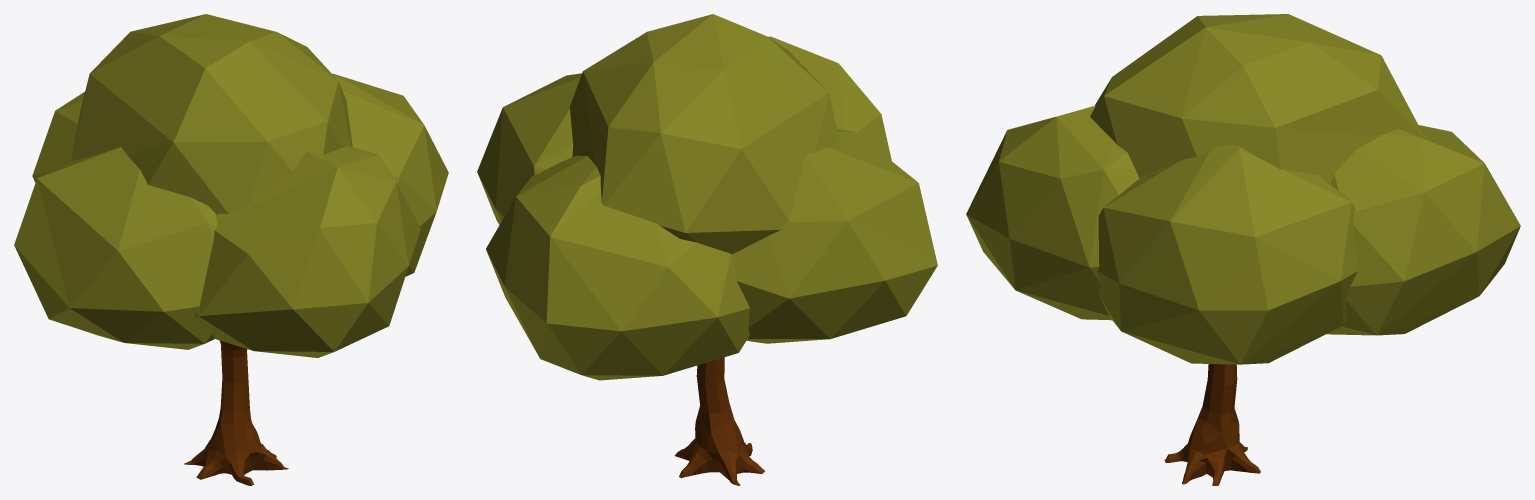
File: oakTree.fbx
3 renders of one model, left to right at view 1: azimuth 30°, elevation 25°; view 2: azimuth 150°, elevation 25°; view 3: azimuth 270°, elevation 25°, orthographic. The views are drawn at different scales.
Visible parts, largest first — view 1: oakTree; view 2: oakTree; view 3: oakTree.
Part boxes in pixels (x1,y1,x2,y2): oakTree: (14, 14, 448, 485); oakTree: (477, 14, 937, 485); oakTree: (966, 14, 1520, 485).
Size of the model in its own units: 1283 by 1319 by 1497.
